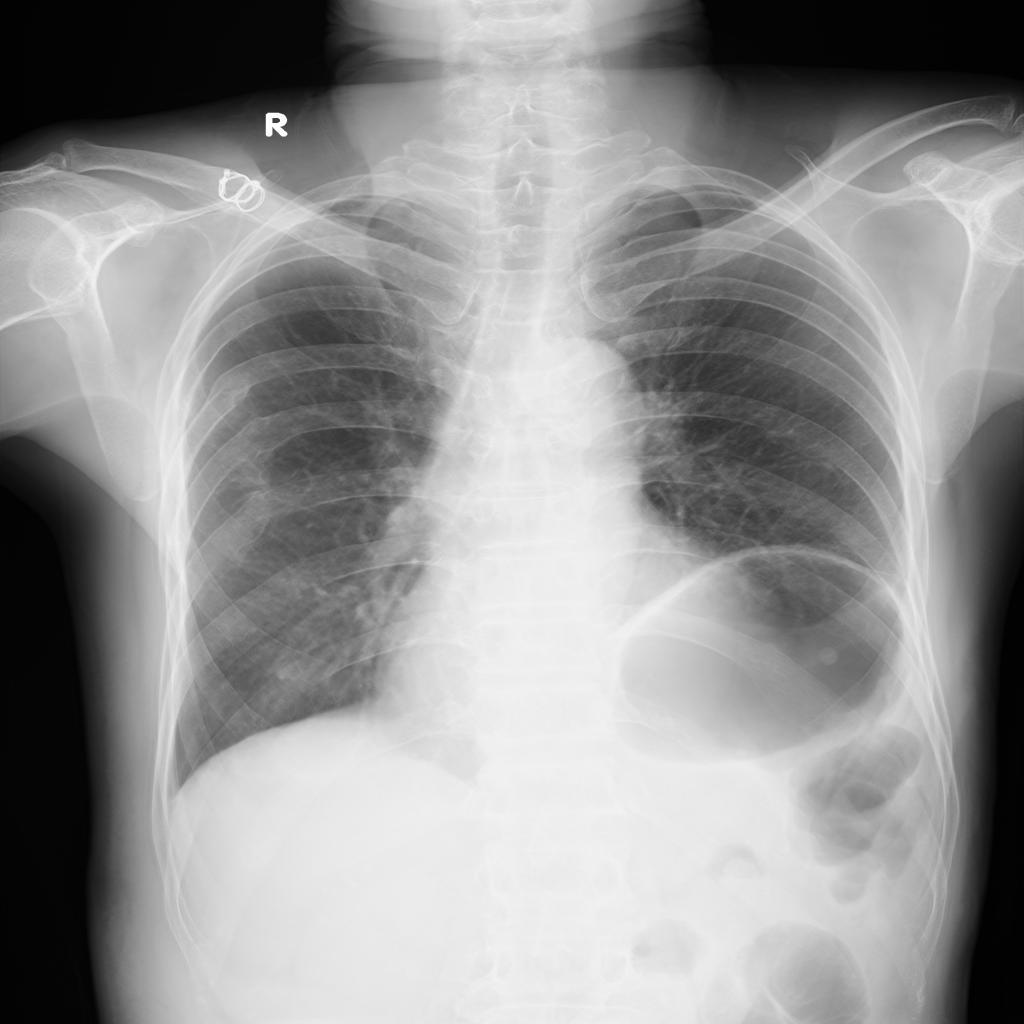Nodule: (815, 645, 841, 668)
